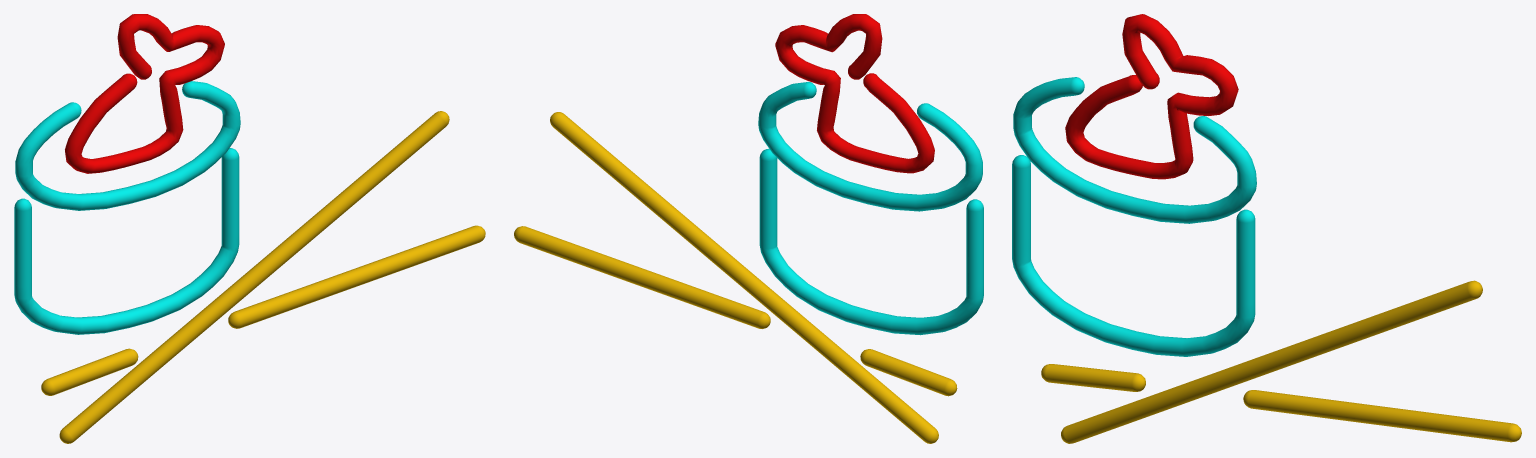
The model's file is NeonSign_2_FBX.fbx.
3 views of the same model, side by side, from view 1: azimuth 30°, elevation 25°; view 2: azimuth 150°, elevation 25°; view 3: azimuth 330°, elevation 25° (orthographic). The views are drawn at different scales.
Visible parts, largest first — view 1: polySurface71; view 2: polySurface71; view 3: polySurface71.
Part boxes in pixels (x1,y1,x2,y2): polySurface71: (14,14,485,443); polySurface71: (514,14,983,443); polySurface71: (1012,14,1521,443).
Bounding box in the file's own units: 9.11 × 7.66 × 0.326.
